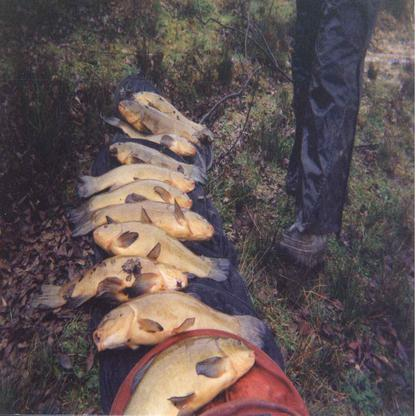fish: (111, 334, 256, 416), (26, 248, 200, 310), (76, 198, 214, 240), (117, 97, 211, 152), (78, 161, 195, 195)
